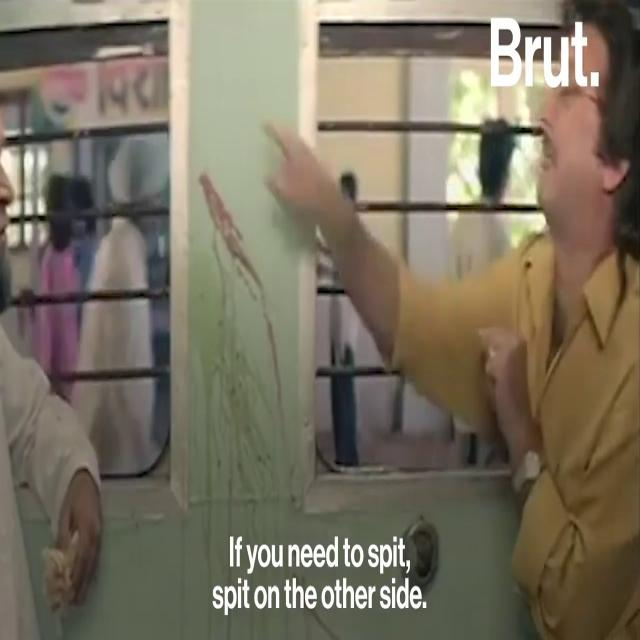spit: (180, 177, 296, 560)
